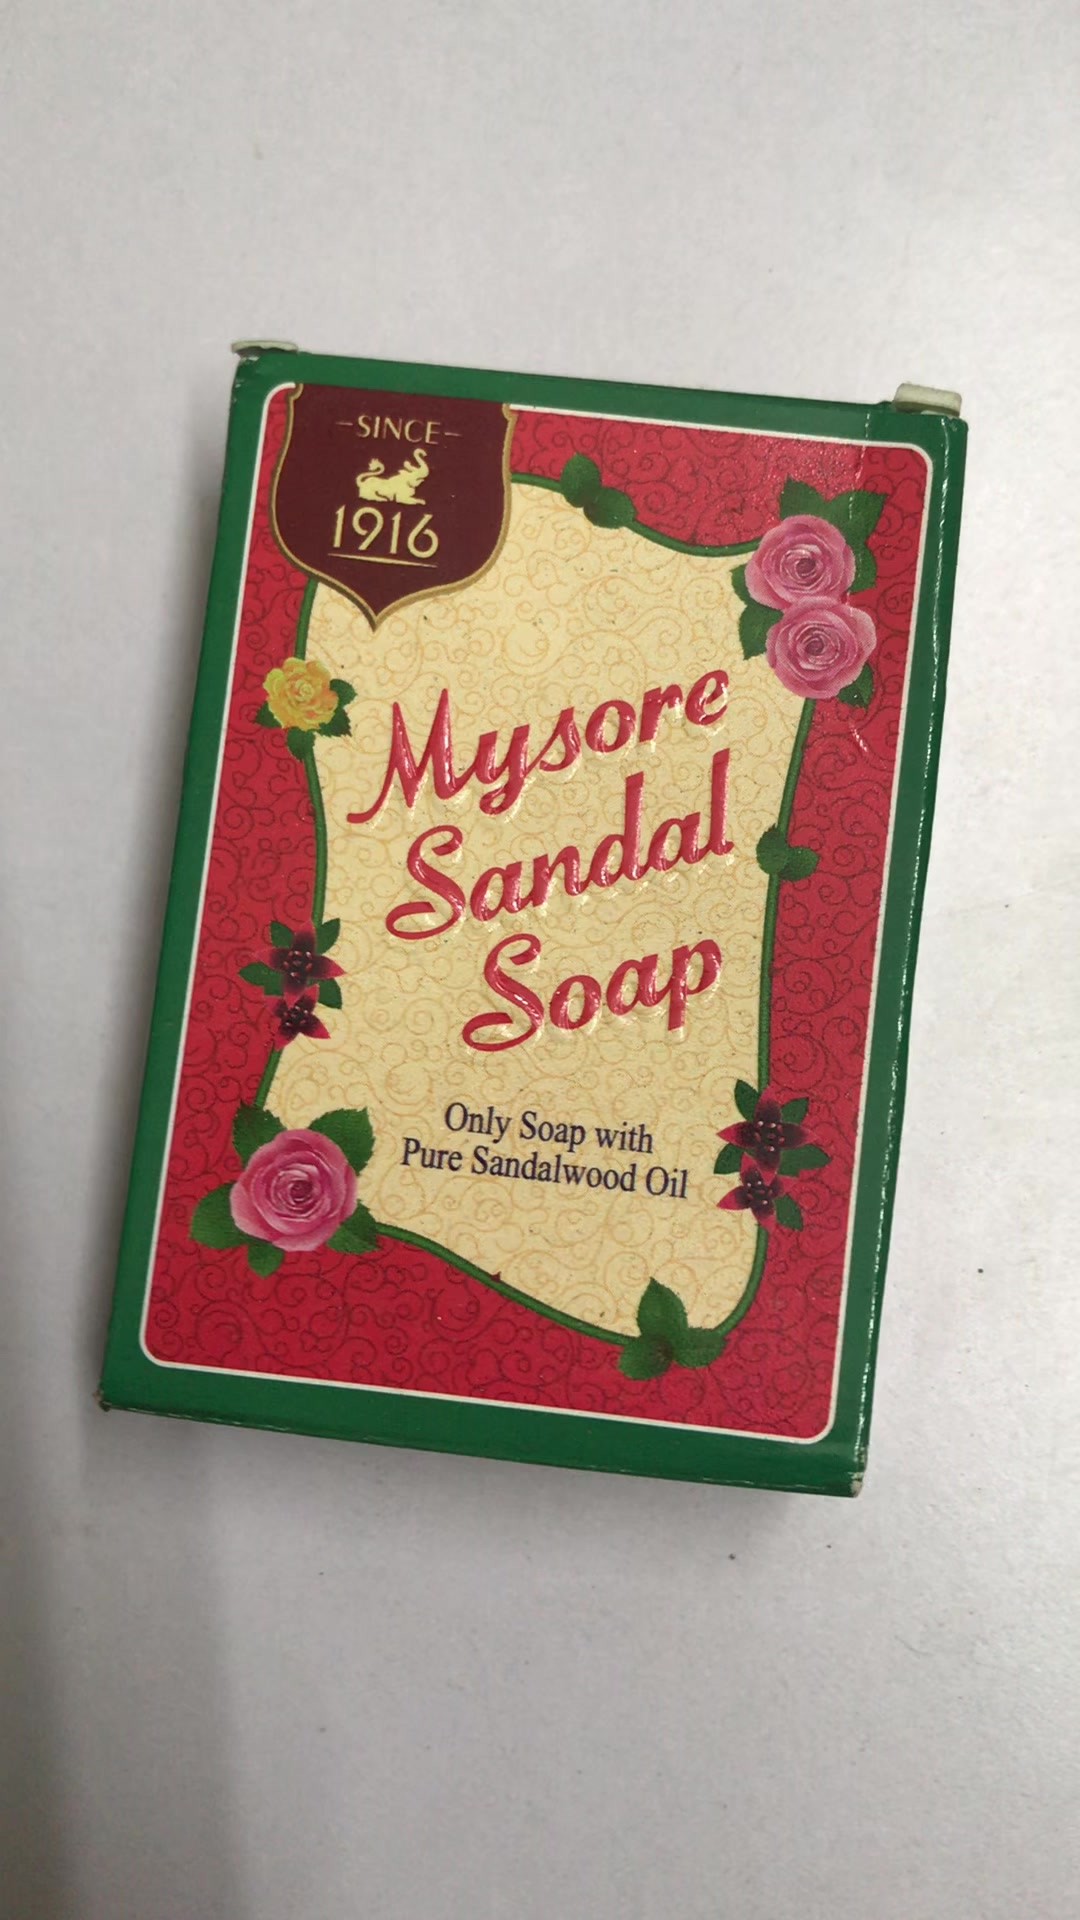mysore sandal soap: (99, 338, 972, 1501)
